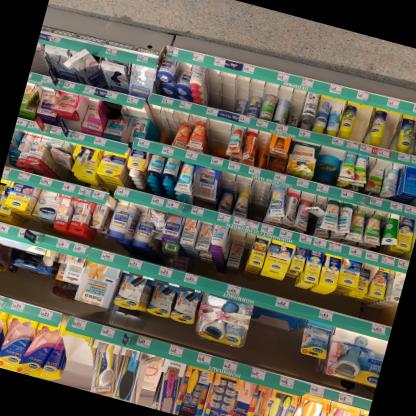empty_space: (246, 303, 305, 363), (60, 329, 91, 373), (205, 67, 239, 106), (238, 231, 254, 266)
